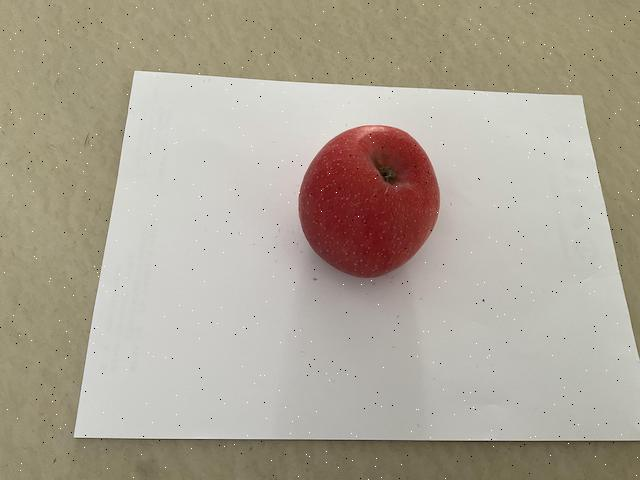apple: (295, 118, 443, 281)
